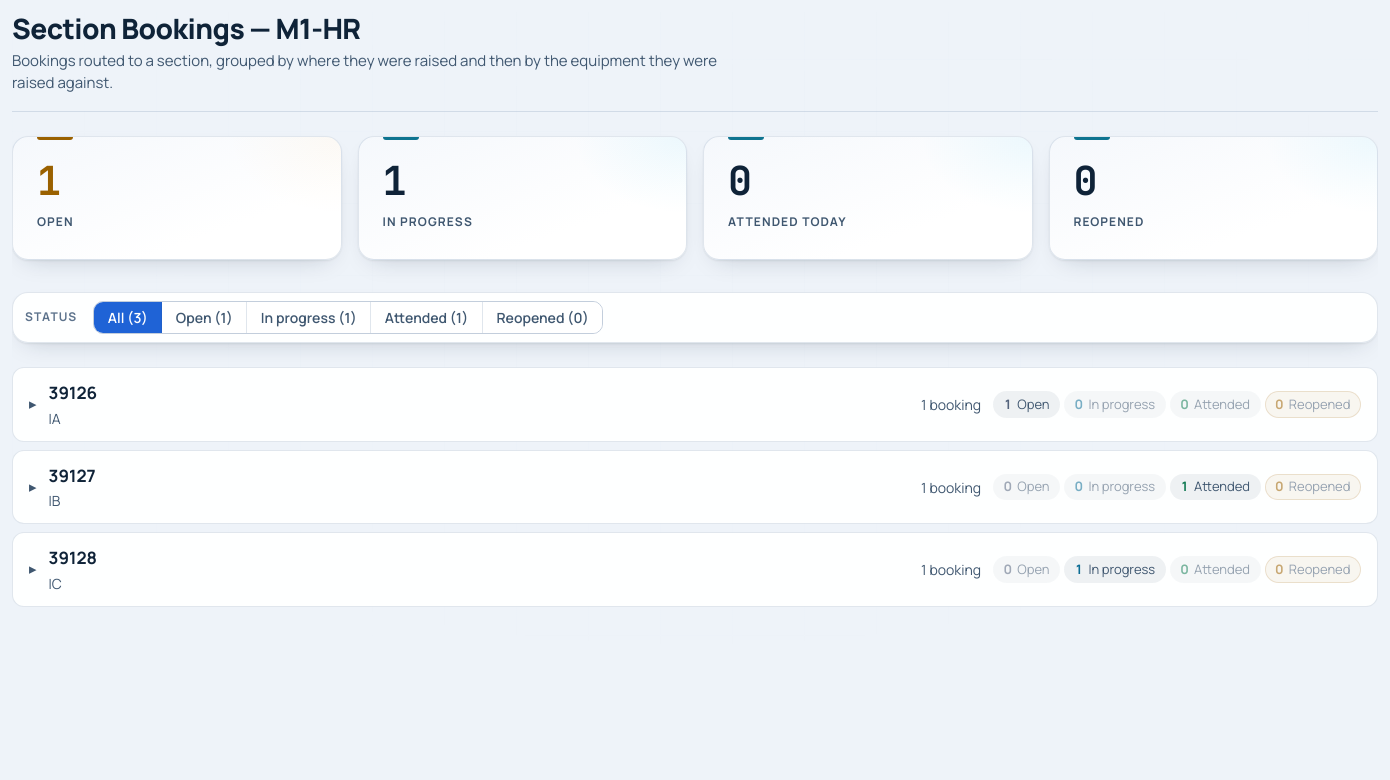
SectionDashboardPage › Auto-scoped section (formerly the Admin picker) › expanding a locomotive reveals equipment, still collapsed
The width and height of the screenshot is (1390, 780).
Click the button with class "collapsible-group-header" that starts with "booking" at (73, 393), box [13, 368, 1377, 441]
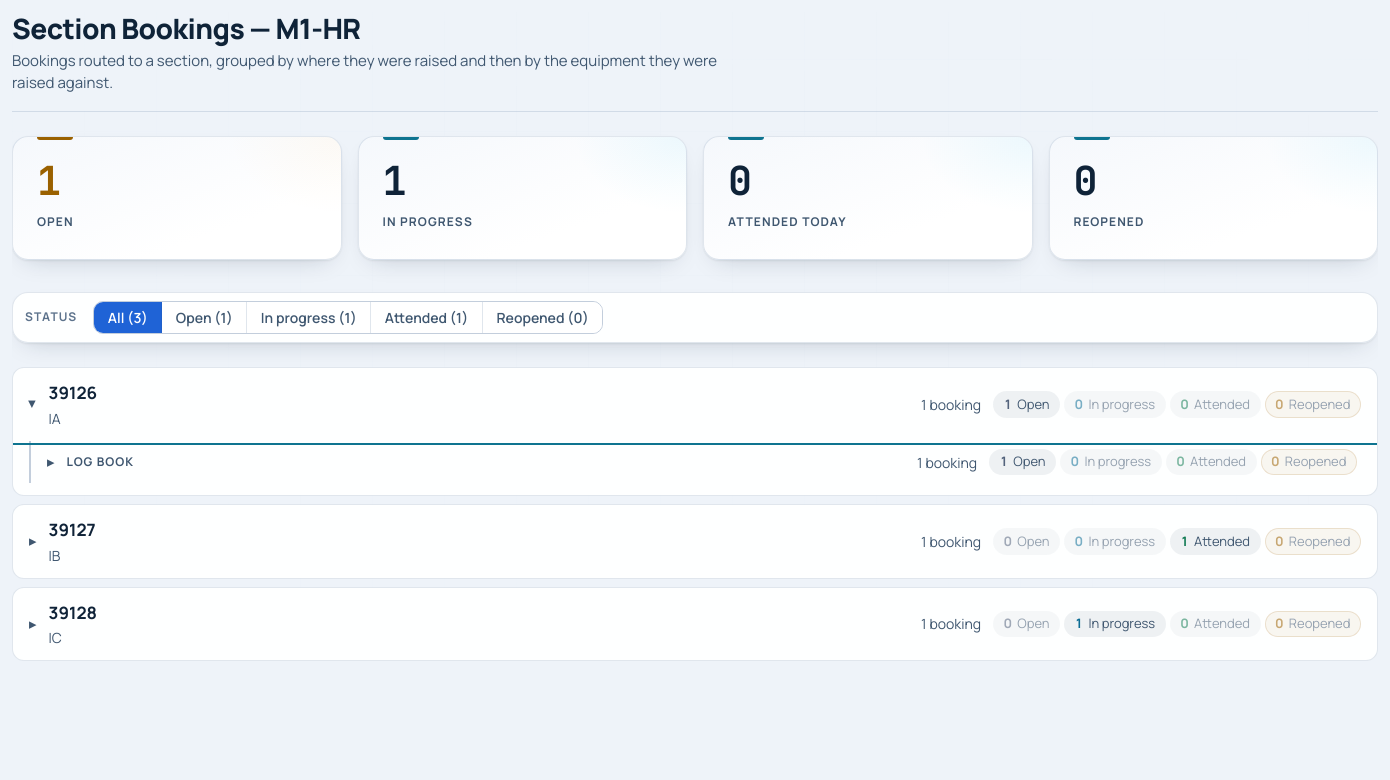
Expected: the button that starts with "Log Book" is shown, [39, 441, 1365, 483]
